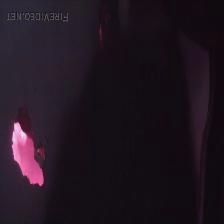fire: (0, 113, 58, 206)
